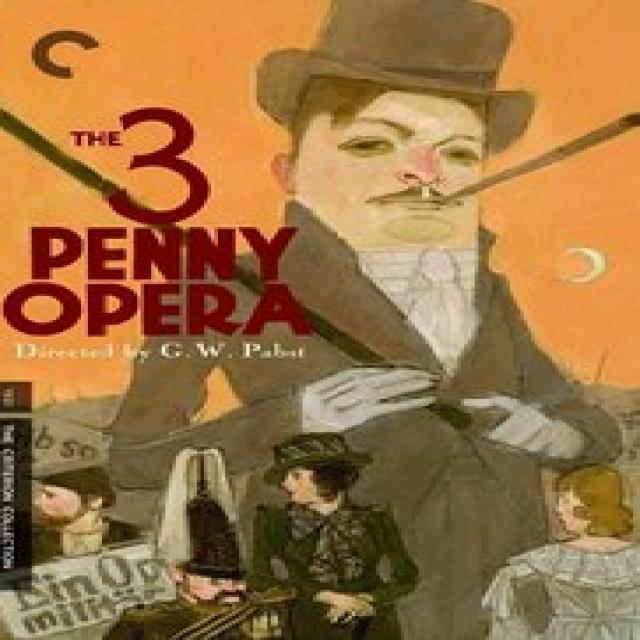movie-judul: (11, 106, 326, 342)
picture: (137, 2, 640, 638)
